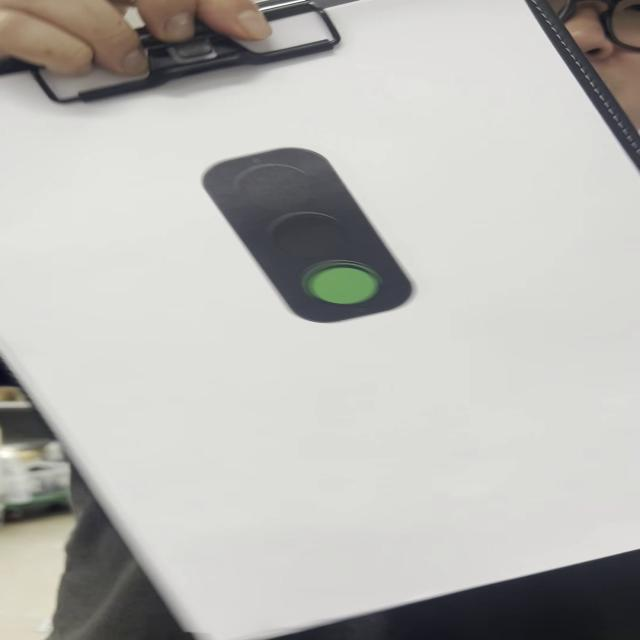green: (204, 145, 411, 325)
